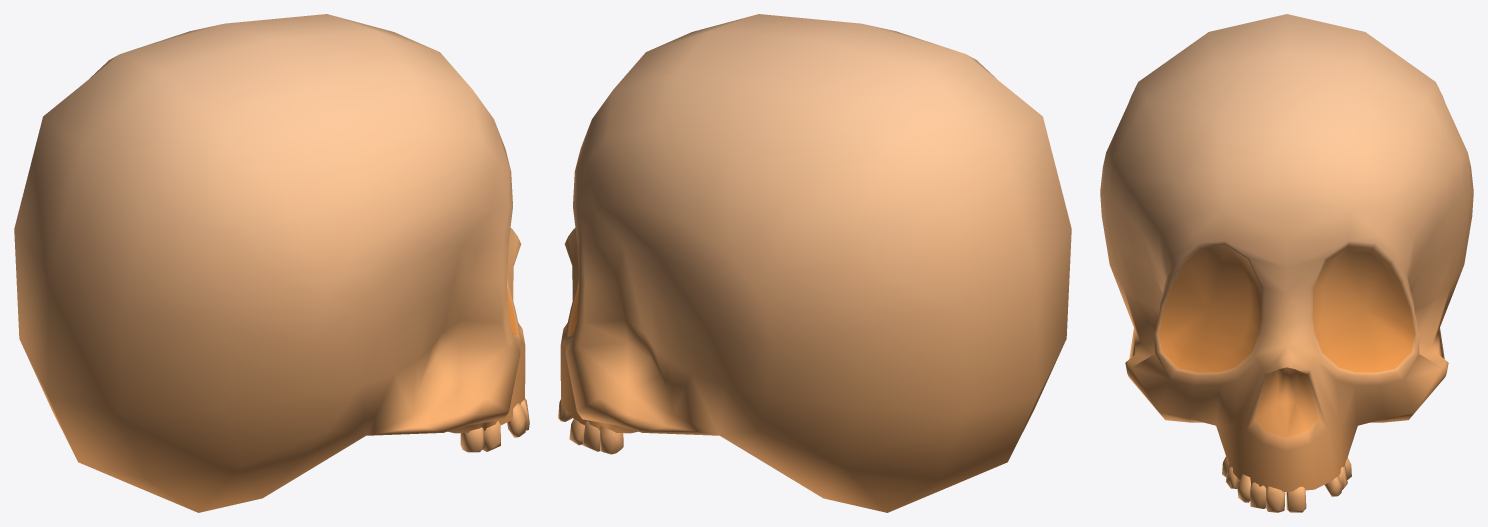
The model's file is skull.fbx.
The picture shows the model from 3 angles, left to right: view 1: azimuth 30°, elevation 25°; view 2: azimuth 150°, elevation 25°; view 3: azimuth 270°, elevation 25°; orthographic projection. The views are drawn at different scales.
Visible parts, largest first — view 1: Skull; view 2: Skull; view 3: Skull.
Part boxes in pixels (x1,y1,x2,y2): Skull: [14, 14, 529, 512]; Skull: [558, 14, 1071, 512]; Skull: [1100, 14, 1473, 512].
Size of the model in its own units: 20.97 by 18.49 by 17.37.
1 material, 1 textured.
